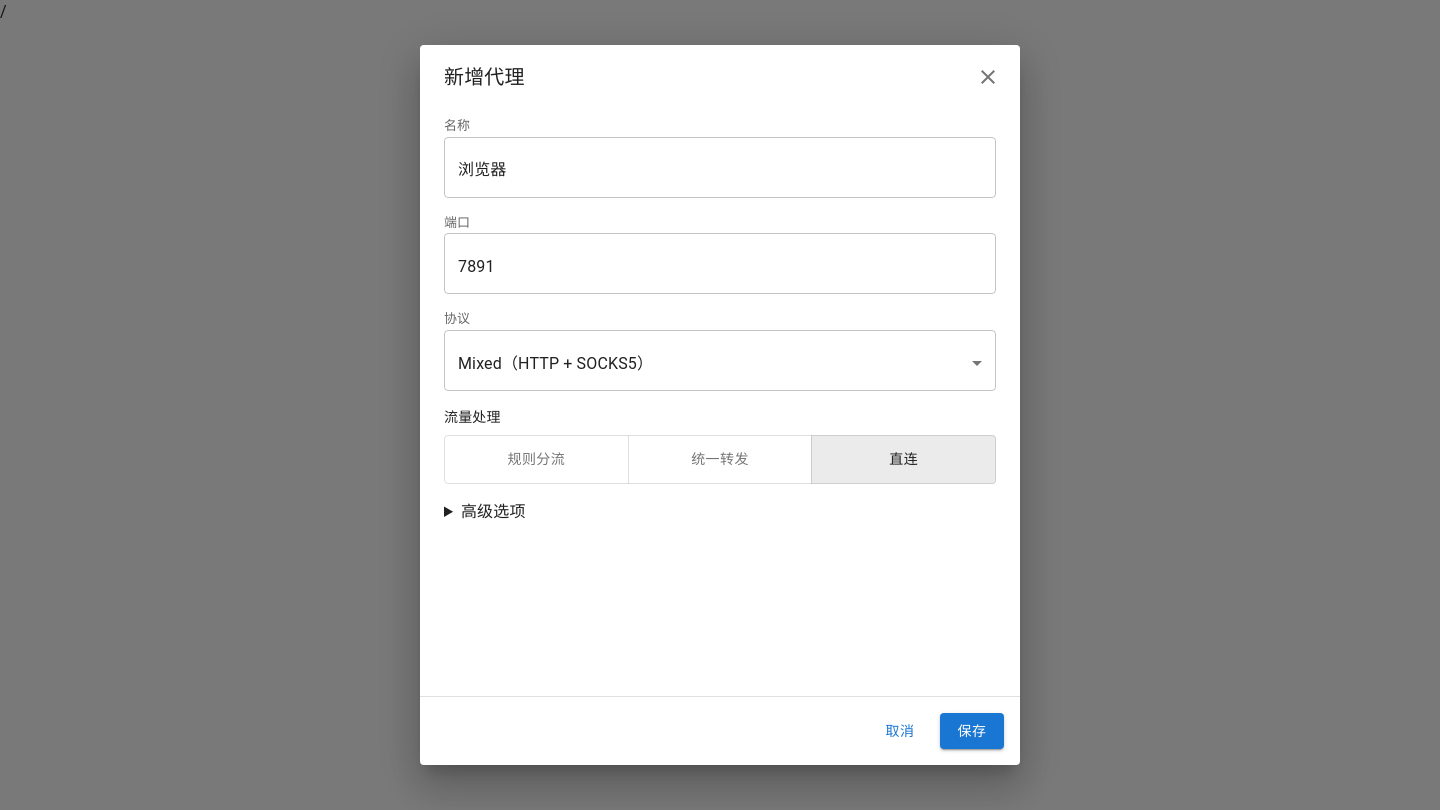
Test: ListenerDialog V4.3 › masks passwords and allows showing them
The image size is (1440, 810).
Click the heading "高级选项" at (493, 511), box left=461, top=502, right=526, bottom=521
(page scrolled)
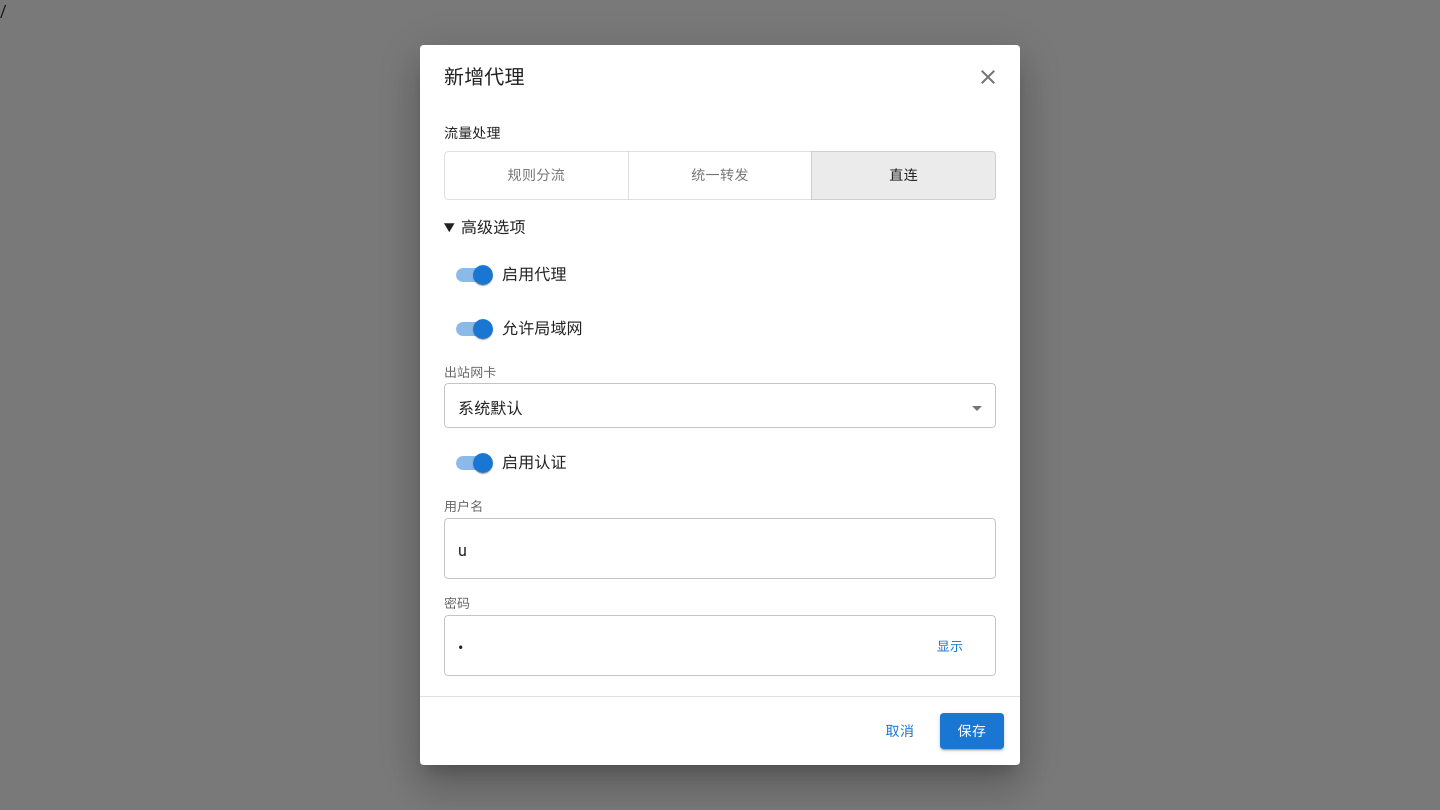
Click the button "显示" at (950, 648), box left=918, top=632, right=982, bottom=663
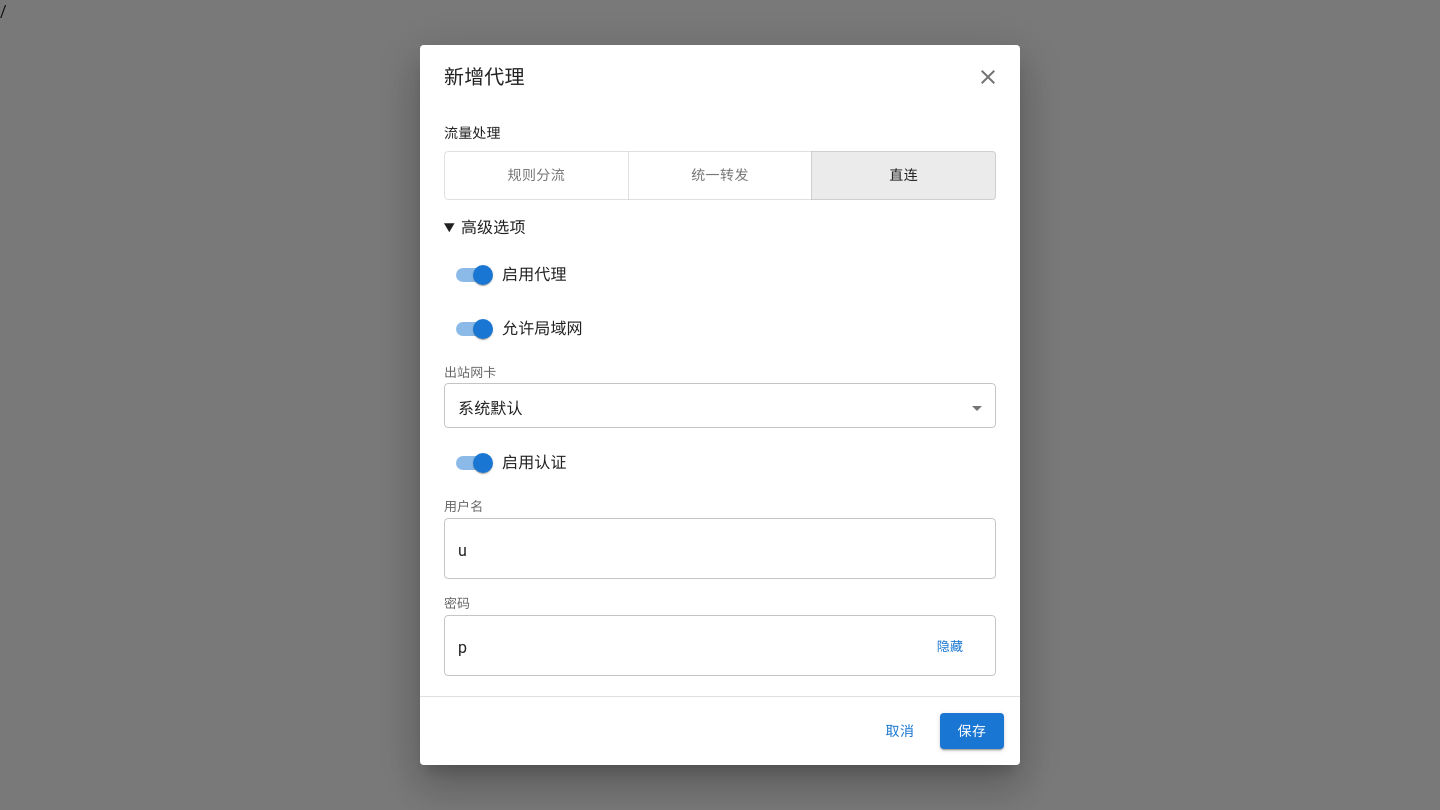
Expected: the field labelled "密码" shows its text, left=444, top=620, right=918, bottom=676
